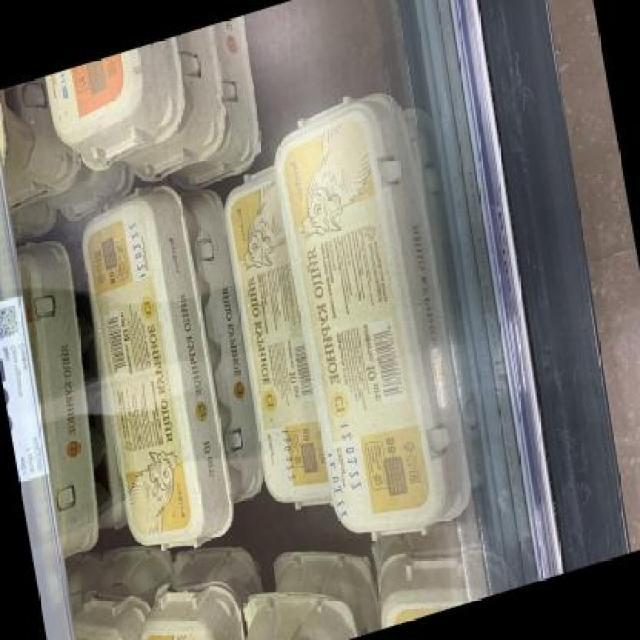egg: (266, 77, 479, 563), (69, 167, 258, 576), (216, 166, 338, 525), (42, 38, 186, 180)
